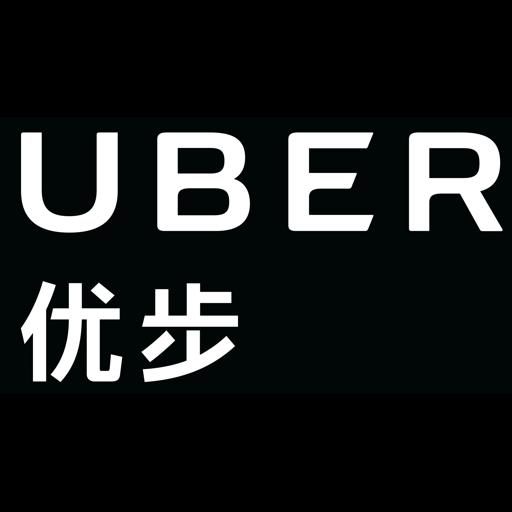Uber: (0, 117, 512, 394)
